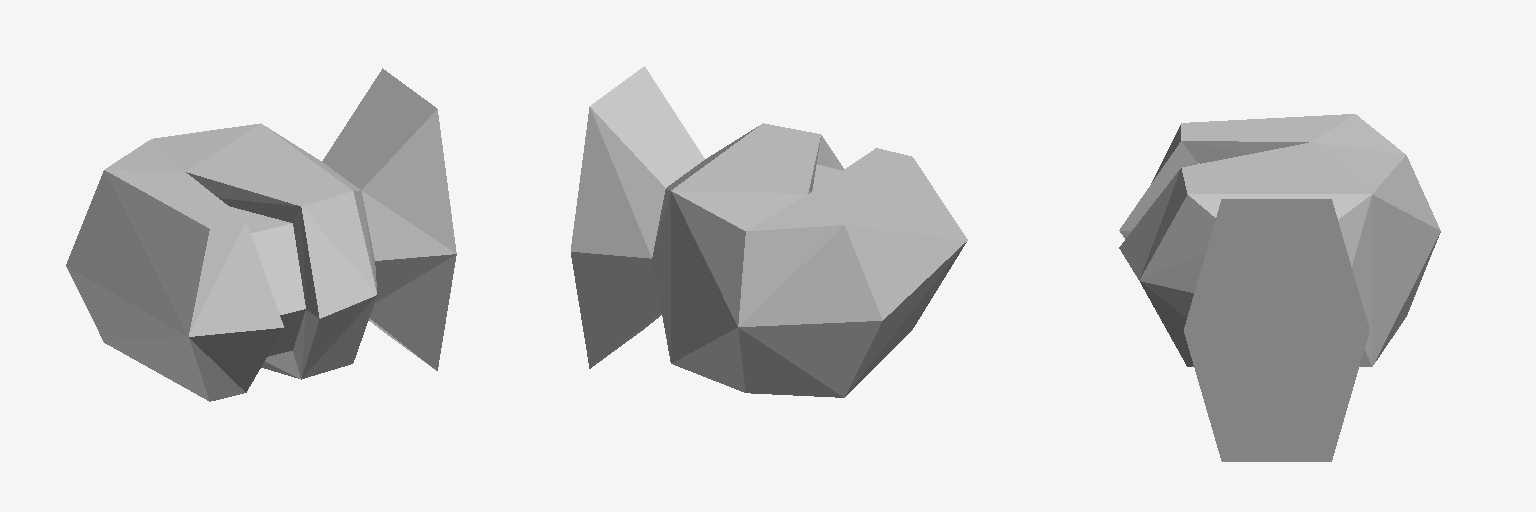
File: head.obj
The picture shows the model from 3 angles: view 1: azimuth 30°, elevation 25°; view 2: azimuth 150°, elevation 25°; view 3: azimuth 270°, elevation 25°; orthographic projection.
Visible parts, largest first — view 1: cube2; view 2: cube2; view 3: cube2.
Boxes of the visible parts, box(x1,y1,x2,y2) form: cube2: box(66, 68, 456, 401); cube2: box(571, 66, 967, 397); cube2: box(1119, 114, 1440, 461).
Size of the model in its own units: 0.2215 by 0.1825 by 0.2025.